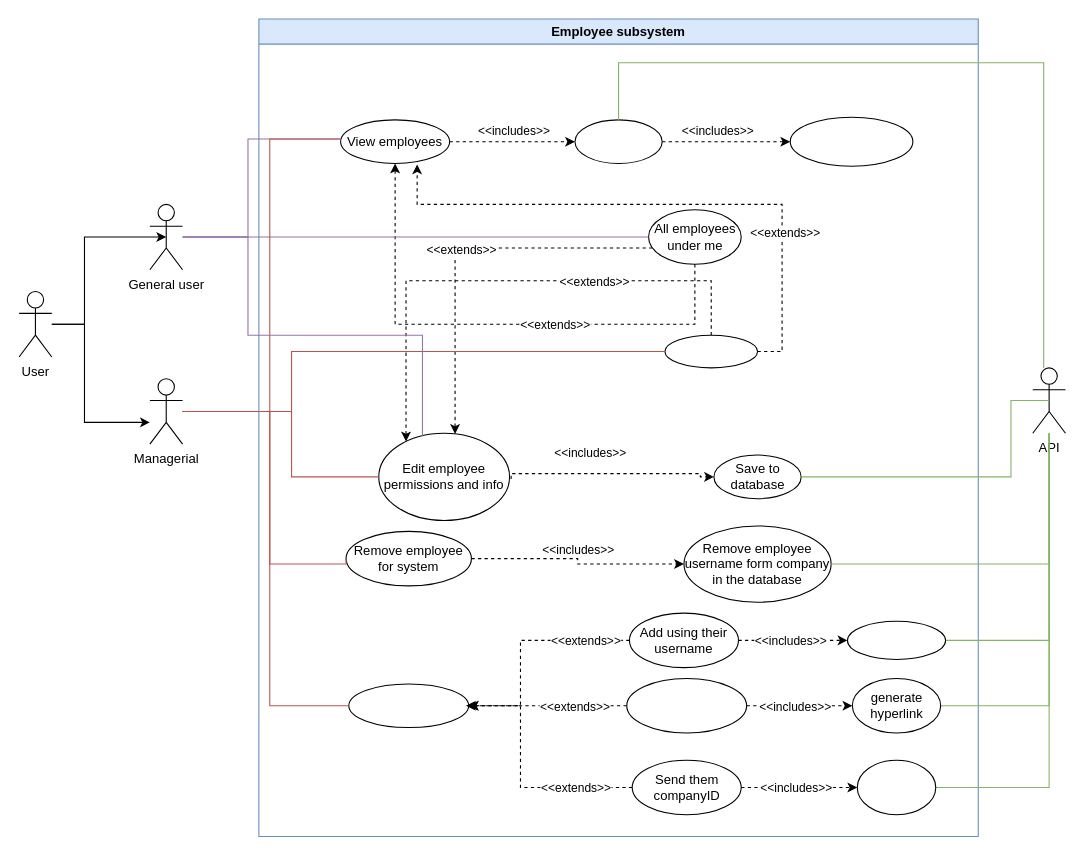
The diagram is 1085 pixels wide and 856 high, and some of its shapes have lost their labels. Each missing label, with the centre of its shape:
"Add employee" goes at point 408,705.
"All jobs" goes at point 711,351.
"Display information" goes at point 851,141.
"Retrieve companyID" goes at point 896,787.
"Retrieve information" goes at point 618,141.
"Send them a hyperlink" goes at point 686,705.
"Verify user exists" goes at point 896,639.
